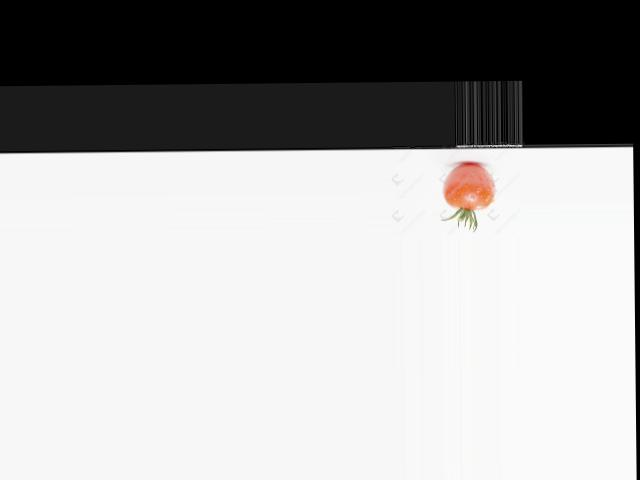tomato: (442, 163, 494, 209)
